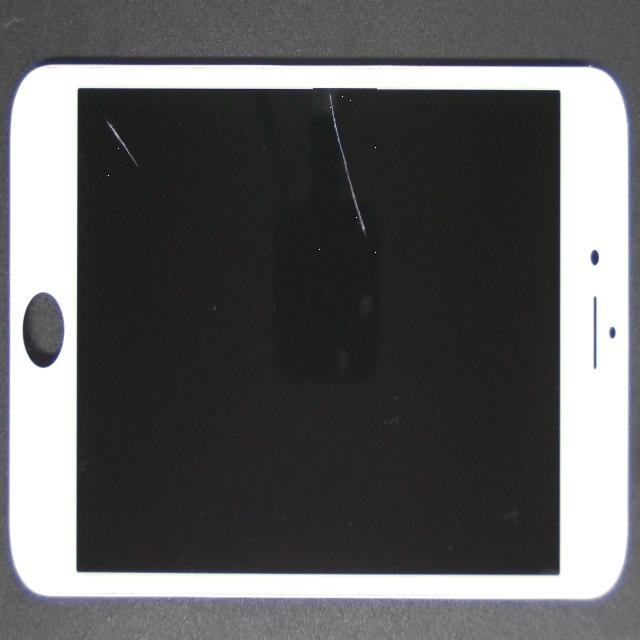scratch: (172, 34, 486, 143), (51, 36, 148, 164)
